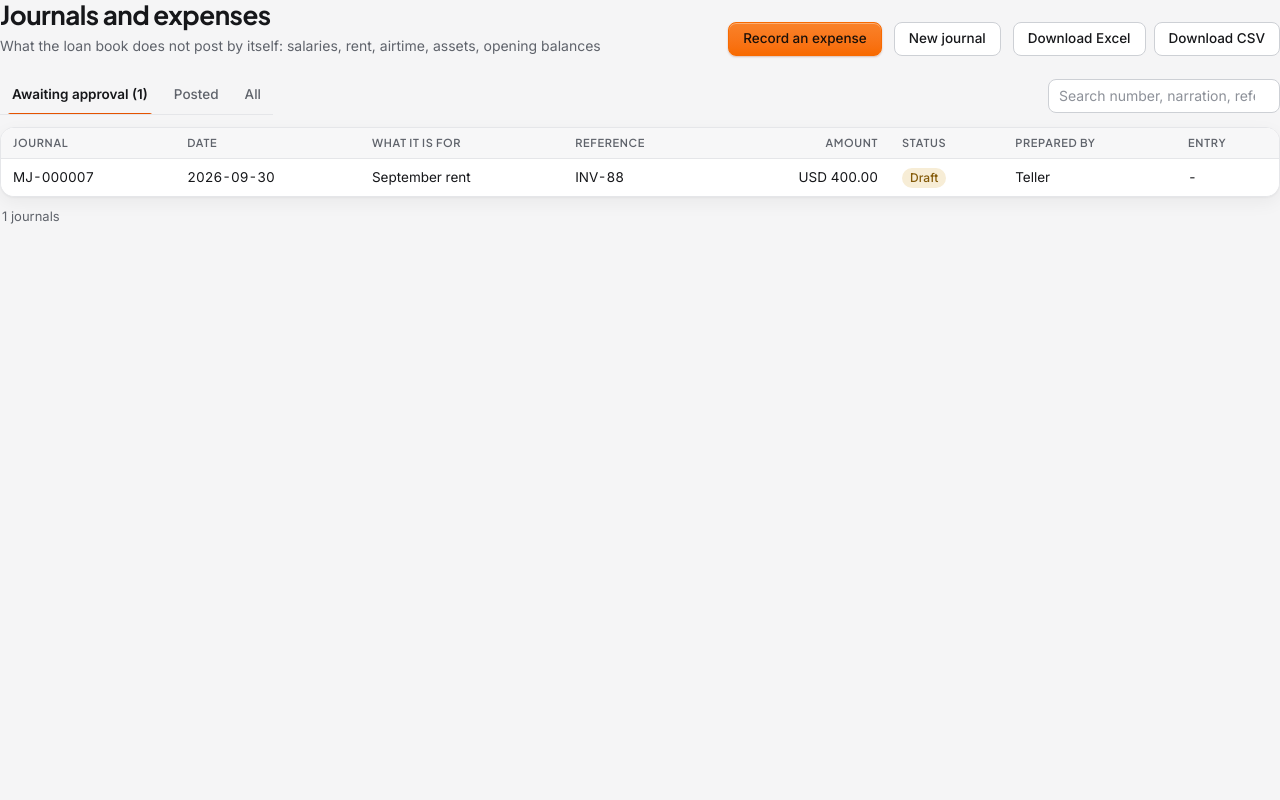
Scenario: Journals › will not send a journal until its debits equal its credits
Click the button "New journal": coordinates (947, 39) [894,22,1001,56]
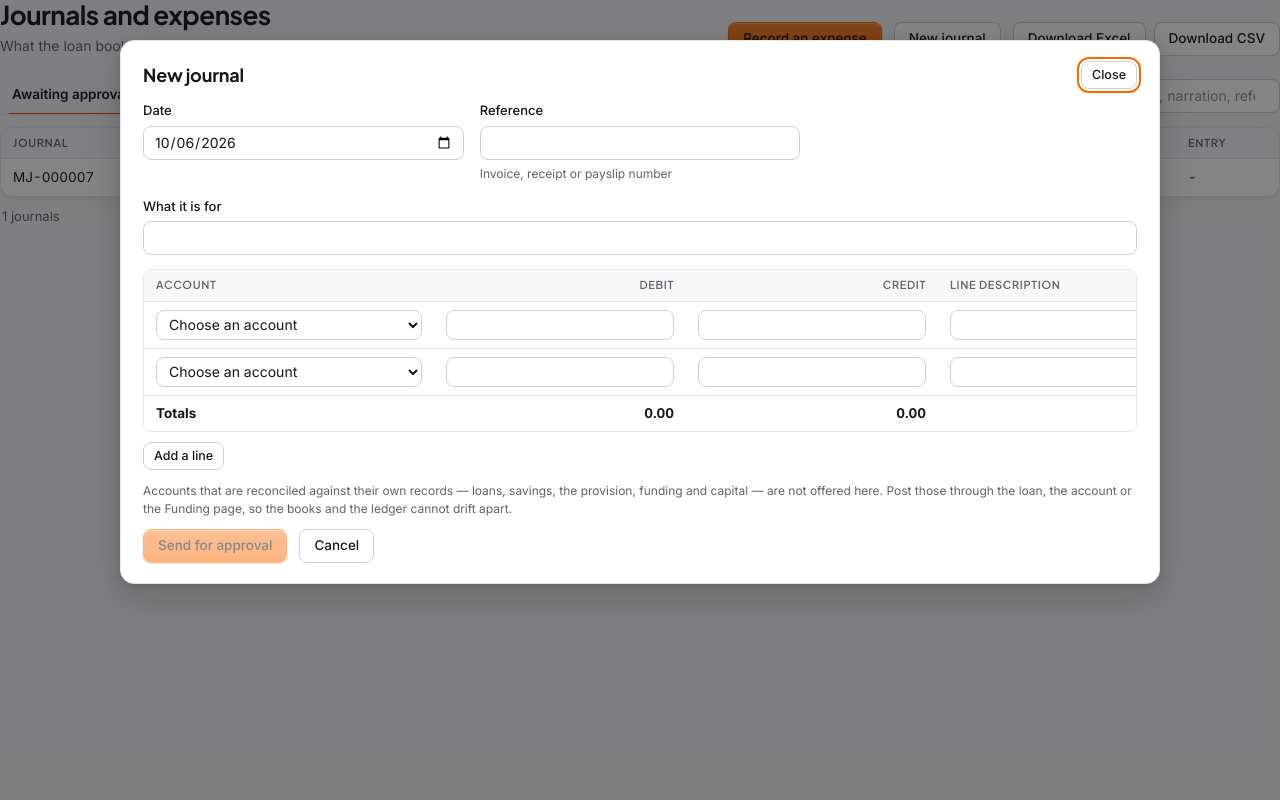
Select "6000 Staff costs" in the dropdown named "Account on line 1": coordinates (289, 325) [156,310,422,340]
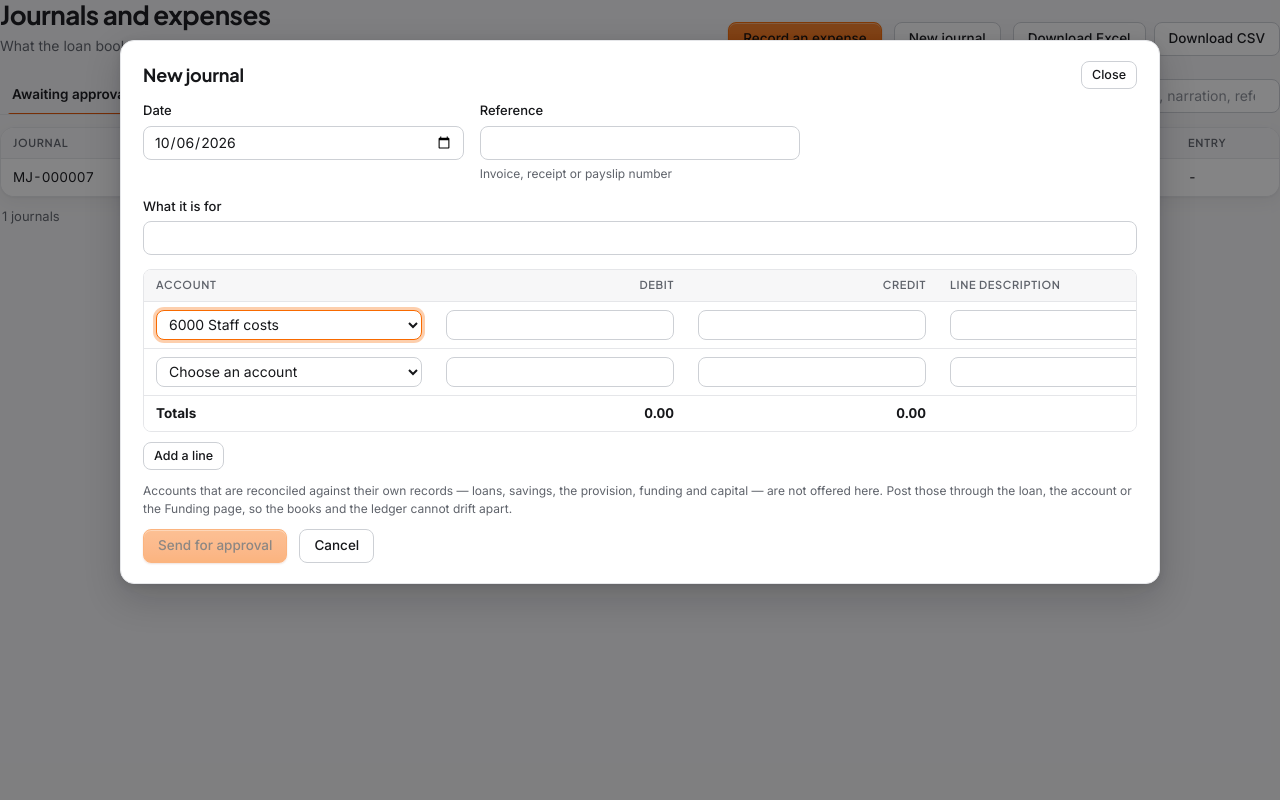
In the number field named "Debit on line 1": coordinates (560, 325) [446,310,674,340], type "500"
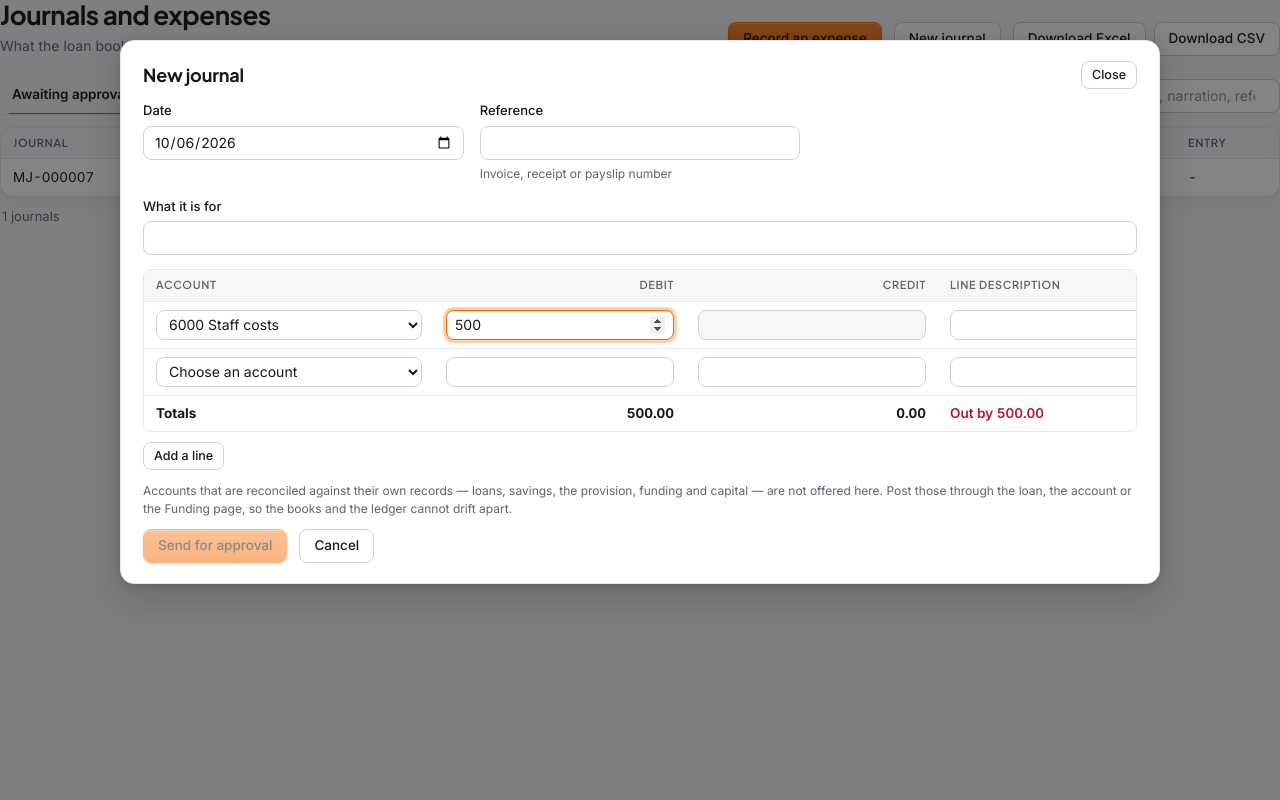
Select "1000 Cash and bank" in the dropdown named "Account on line 2": coordinates (289, 372) [156,357,422,387]
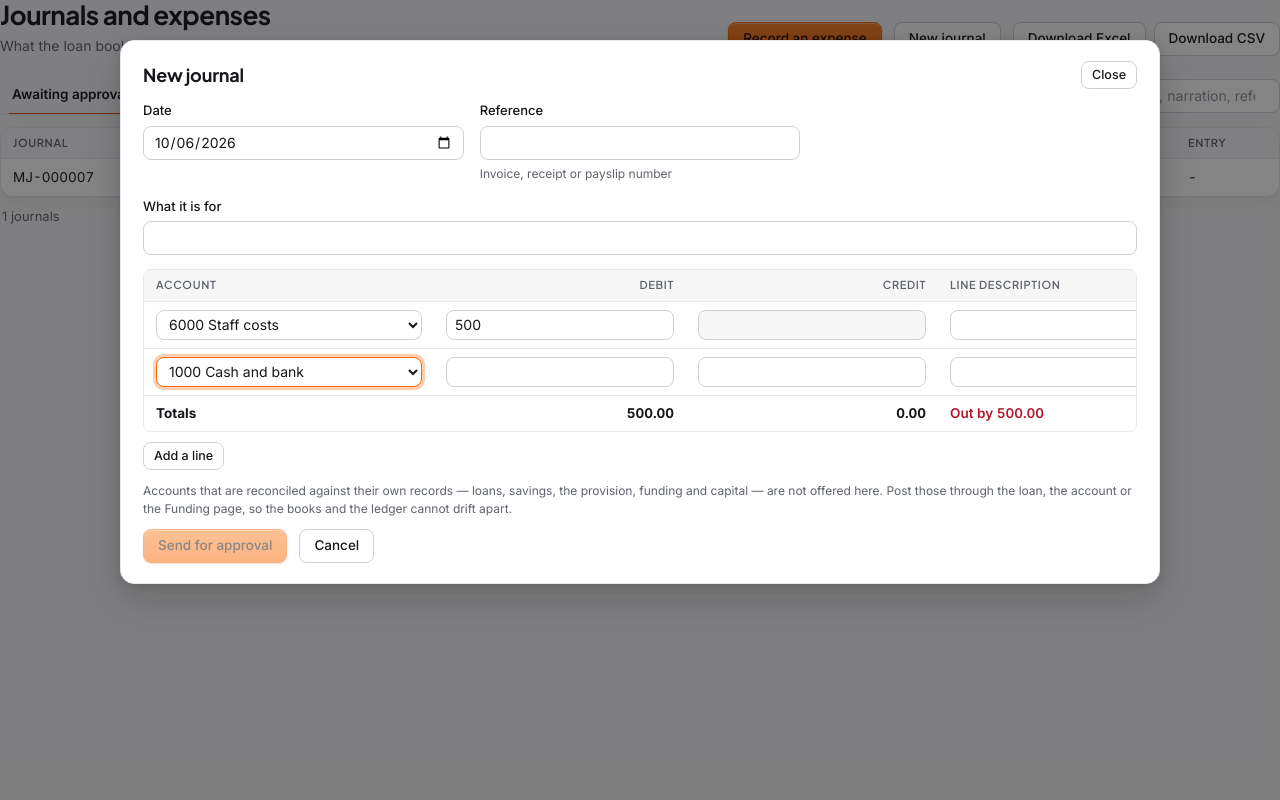
In the number field named "Credit on line 2": coordinates (812, 372) [698,357,926,387], type "450"
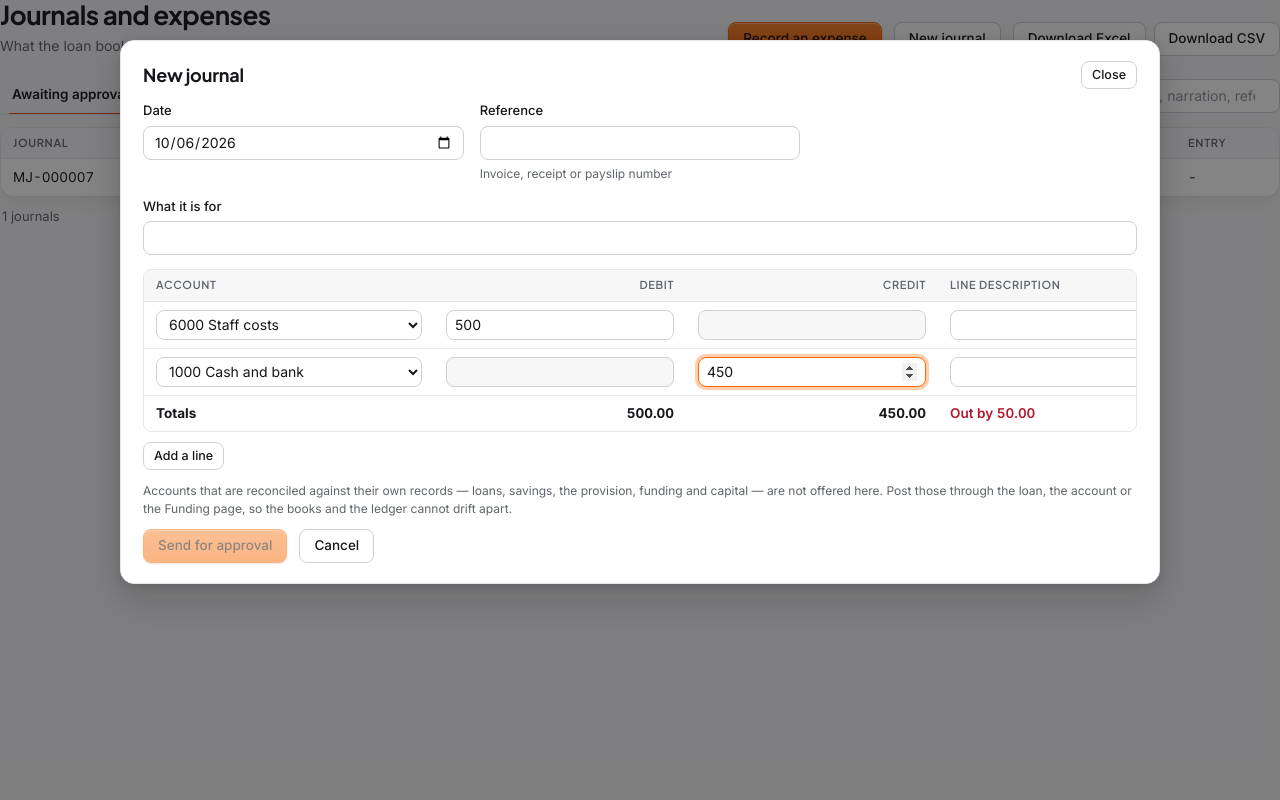
Check: the button "Send for approval" is disabled, box [143,529,287,563]
Check: the text "Out by 50.00" is shown, box [950,405,1035,421]
Replace the text in the number field named "Credit on line 2" with "500": coordinates (812, 372) [698,357,926,387]
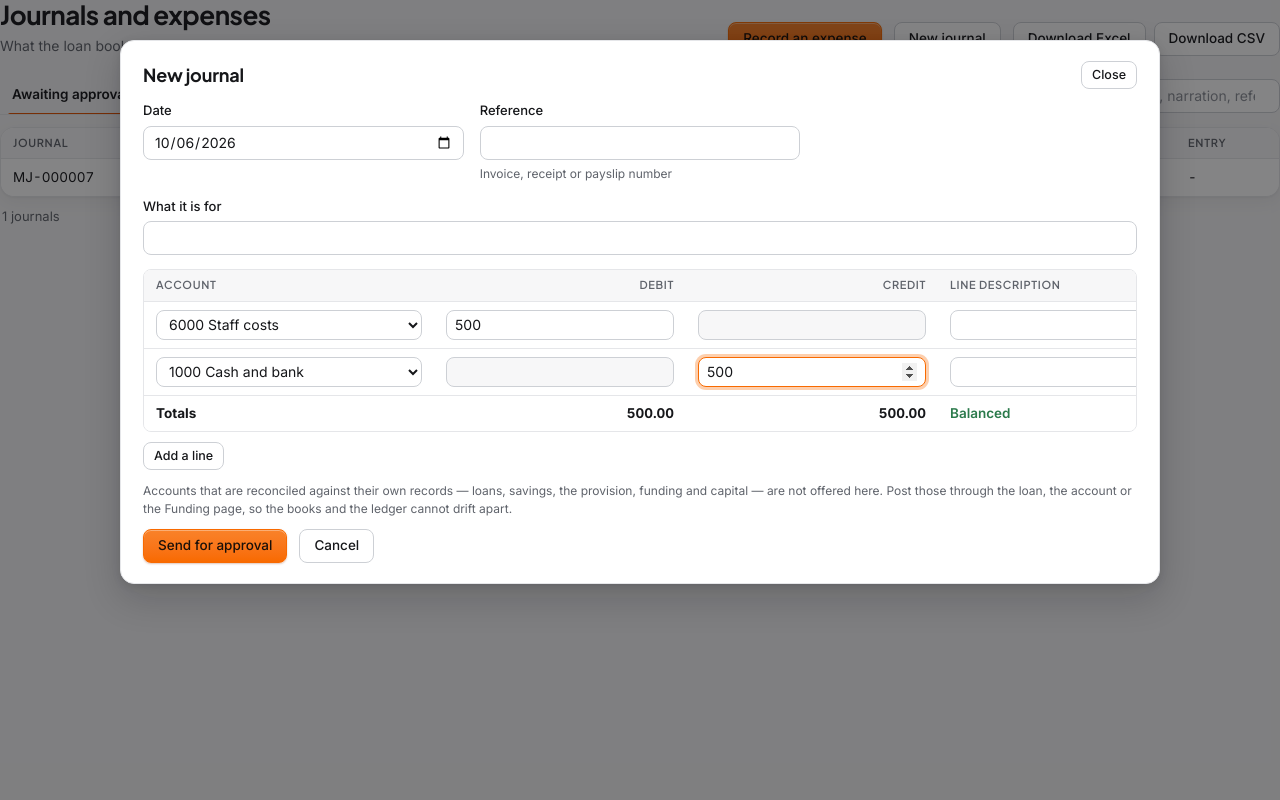
Check: the text "Balanced" is shown, box [950,405,1010,421]
Check: the button "Send for approval" is enabled, box [143,529,287,563]
